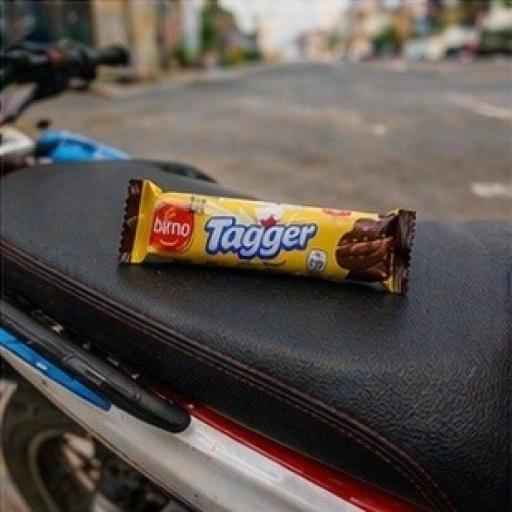tagger: (76, 98, 454, 380)
